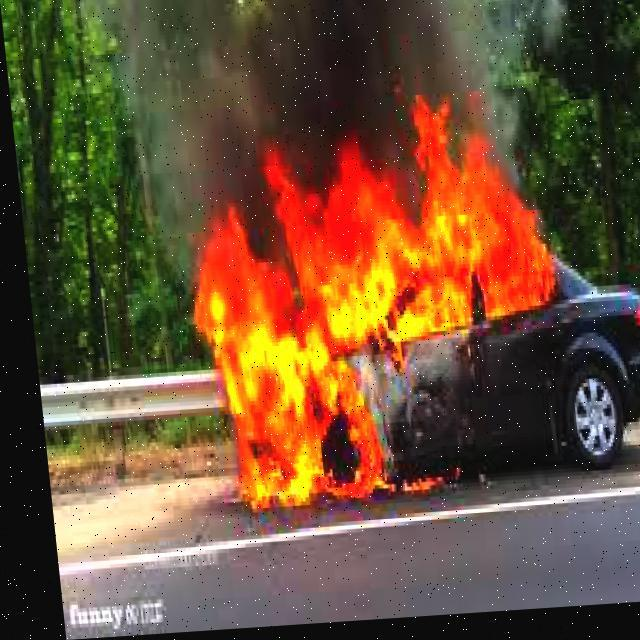Fire: (179, 120, 577, 524)
